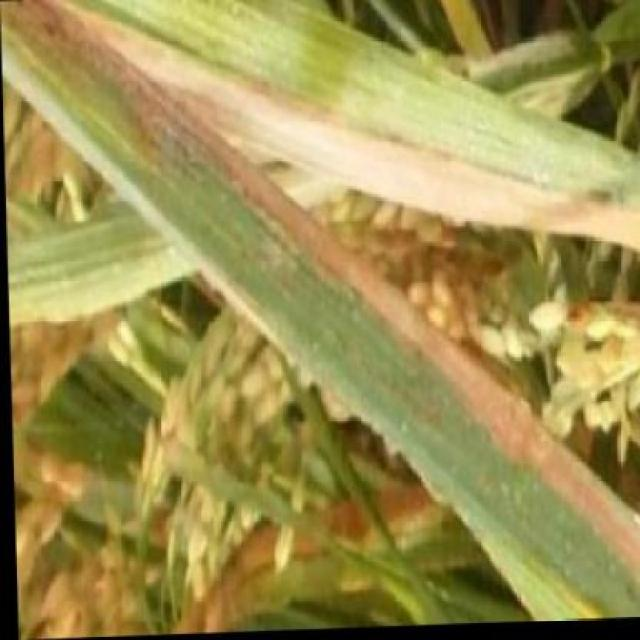Brown_Spot: (6, 0, 635, 632), (5, 1, 500, 236), (344, 384, 638, 622)
